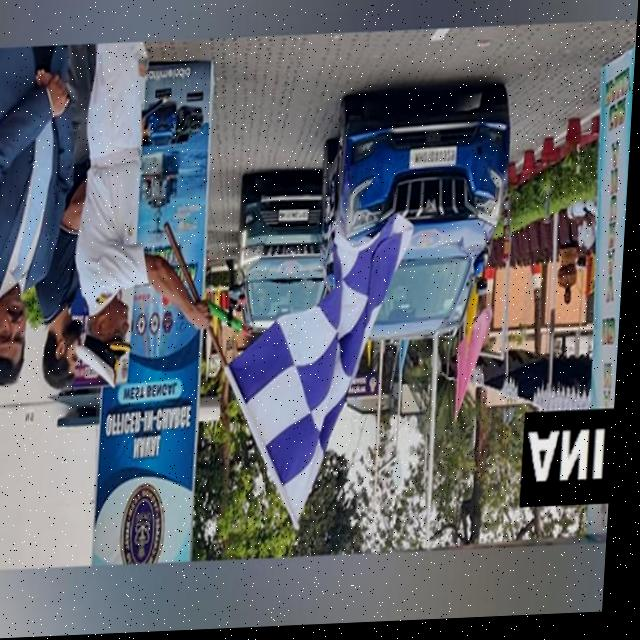plate: (410, 150, 461, 173), (278, 209, 316, 225)
